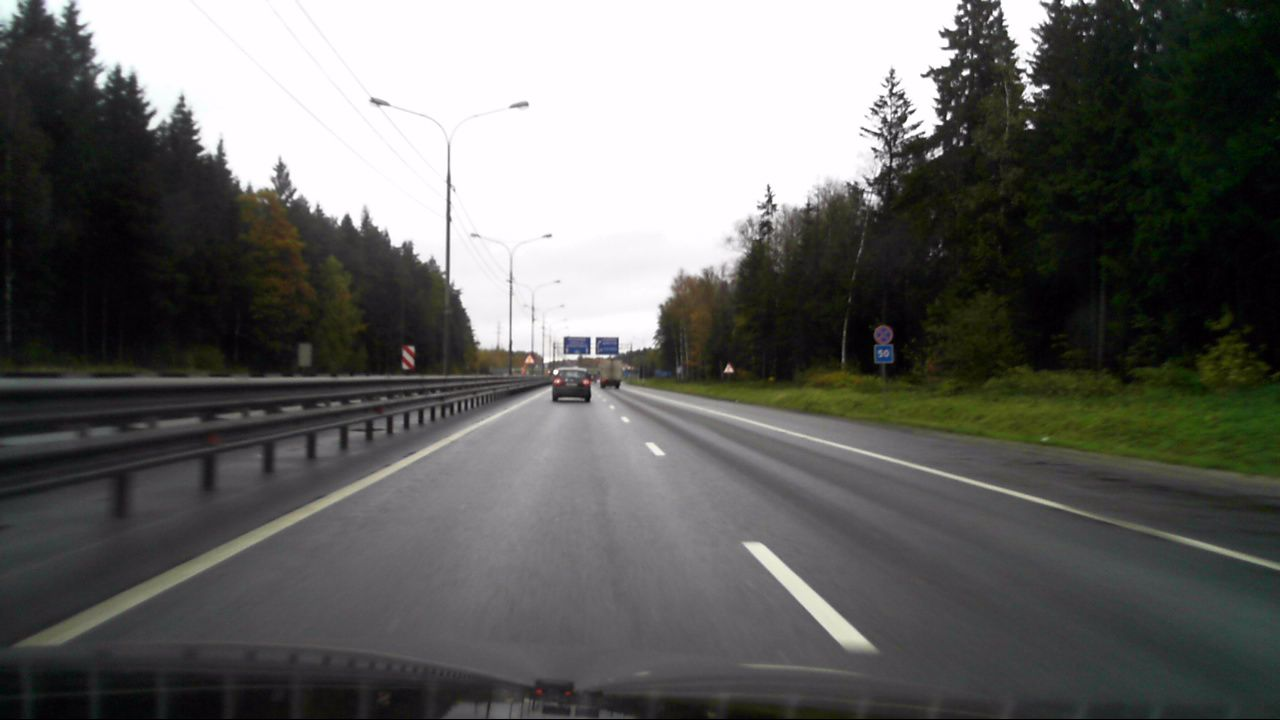No Parking: (873, 324, 892, 343)
